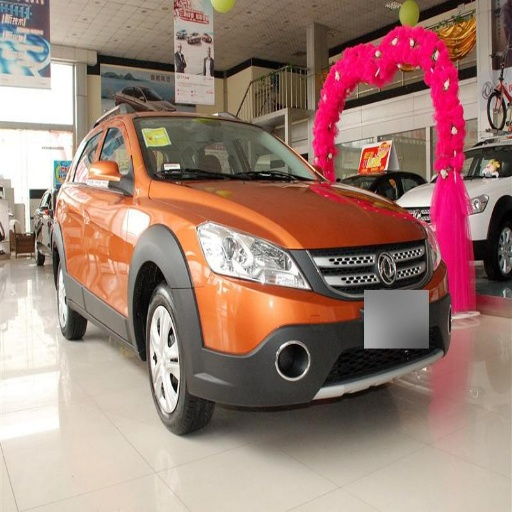front_bumper: (192, 241, 449, 407)
front_right_door: (85, 117, 135, 316)
front_right_light: (198, 222, 310, 289)
